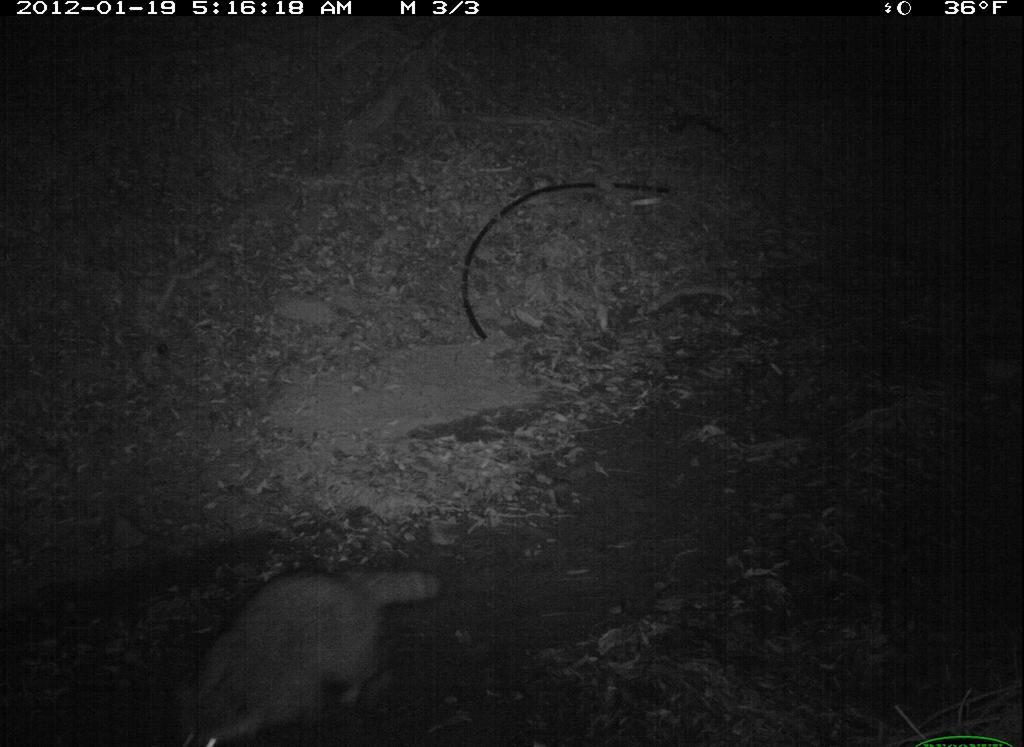raccoon: (167, 559, 455, 747)
